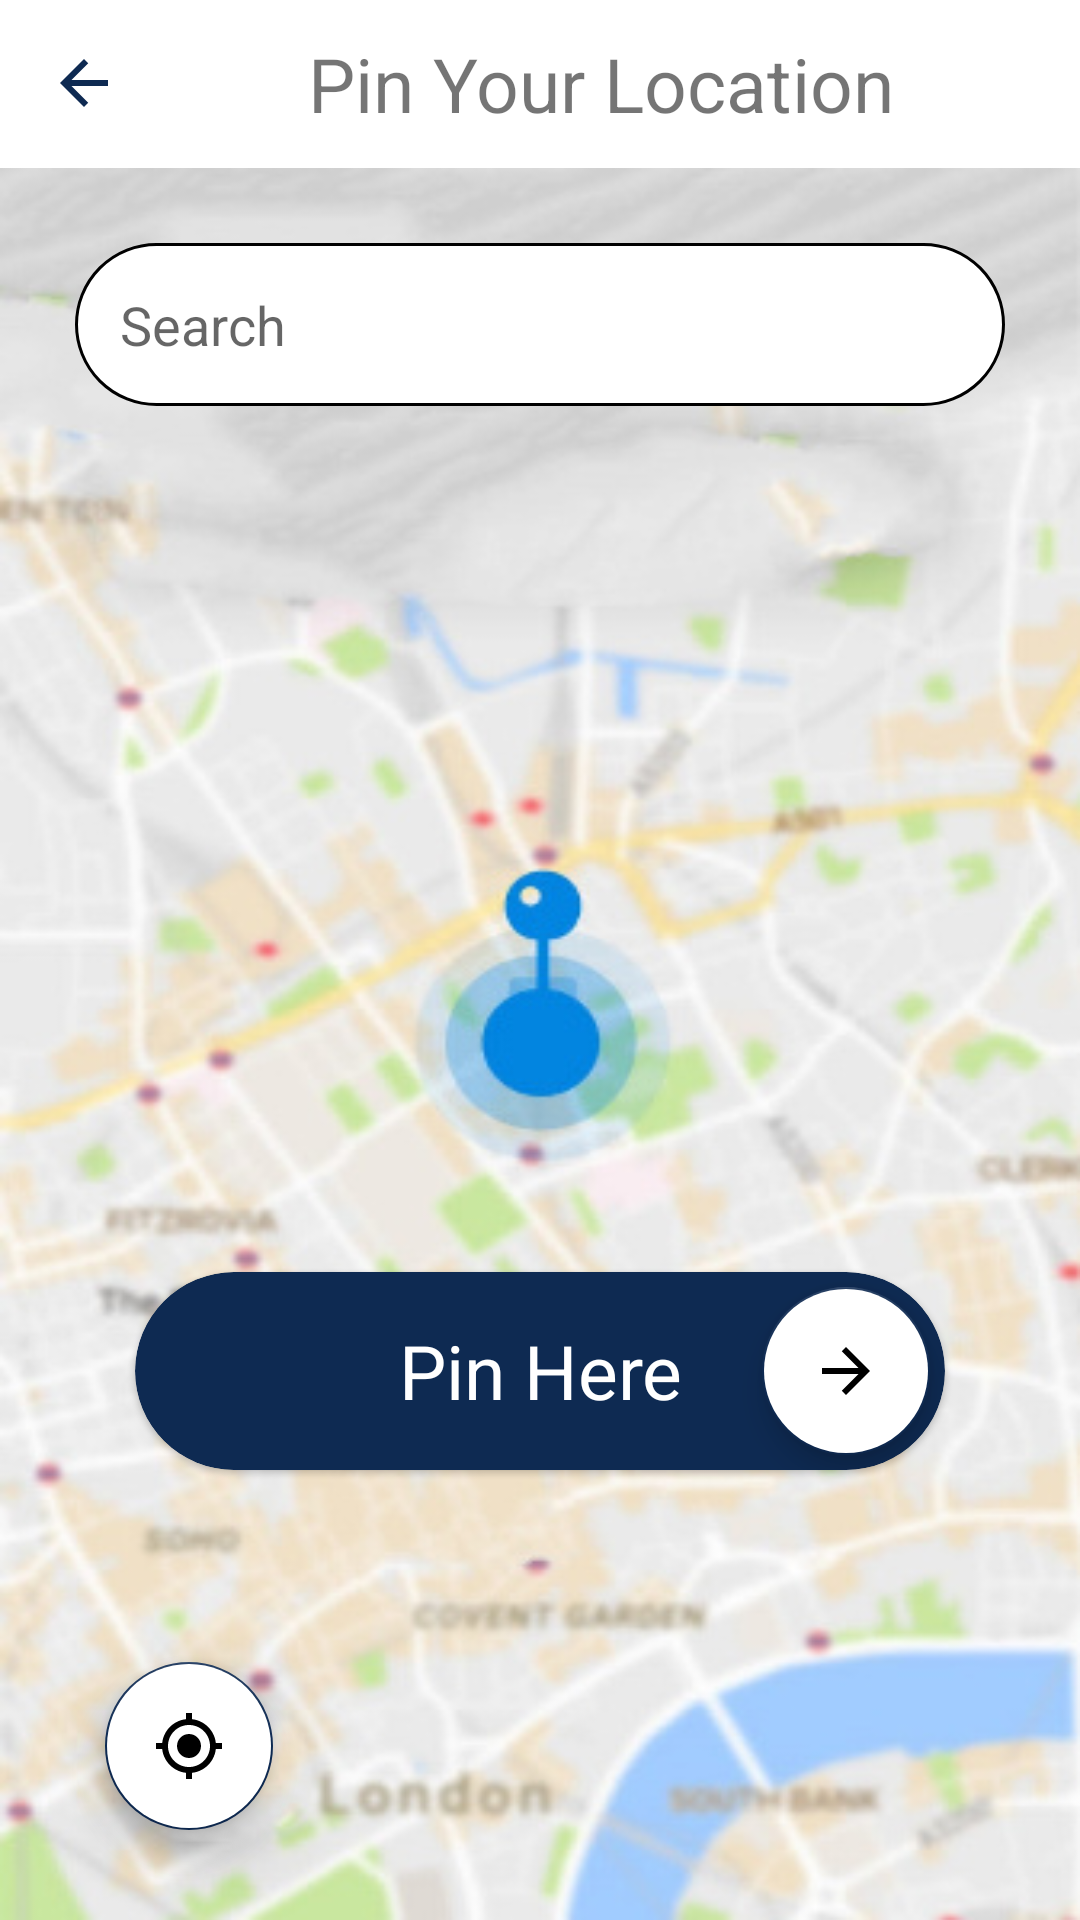

Screen size 1080px×1920px. Icon name, then its center in pixels as (x,y):
arrow forward: (846,1370)
location: (189,1746)
